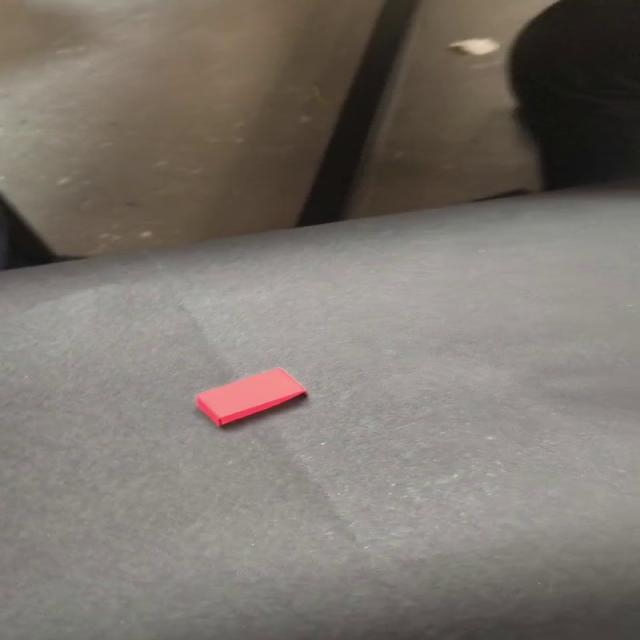red block: (193, 366, 307, 426)
